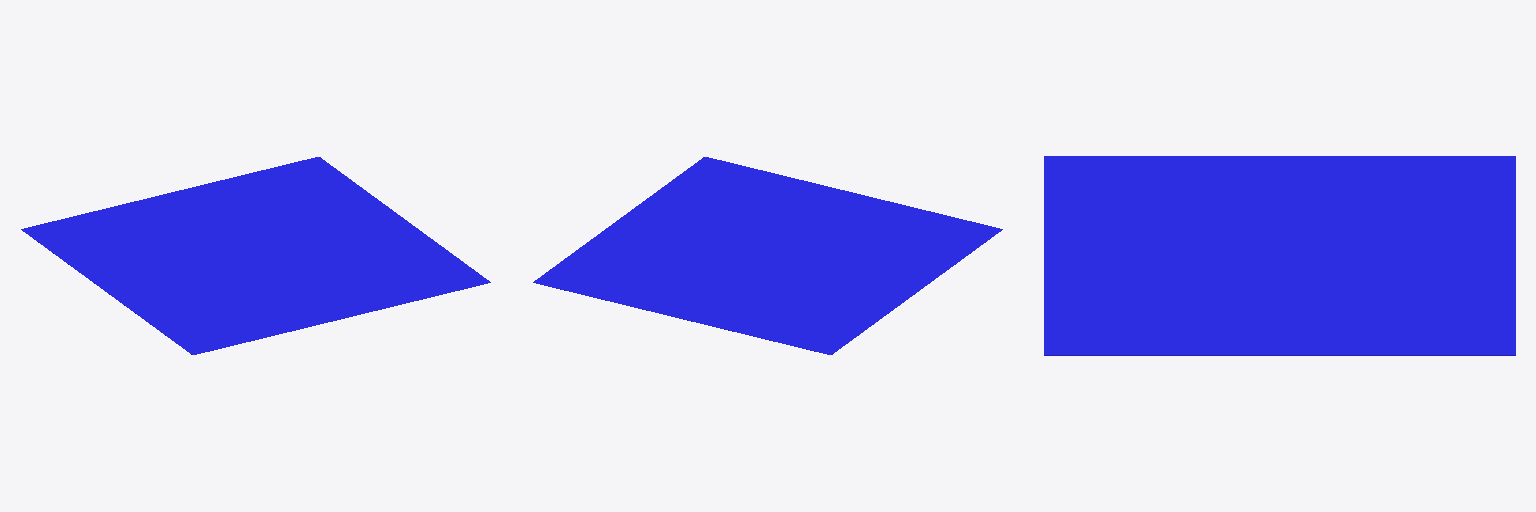
The robot description file, URDF, robot "block":
<robot name="block">
  <link name="block">

    <inertial>
      <origin xyz="0 0 0" />
      <mass value="0.1" />
      <inertia  ixx="0.00003375" ixy="0.0"  ixz="0.0"  iyy="0.00003375"  iyz="0.0"  izz="0.00003375" />
    </inertial>

    <visual>
      <origin xyz="0 0 0"/>
      <geometry>
        <box size="0.5 0.5 0.0001" />
      </geometry>
      <material name="blue">
        <color rgba="0.2 0.2 1.0 1.0"/>
      </material>
    </visual>

    <collision>
      <origin xyz="0 0 0"/>
      <geometry>
        <box size="0.5 0.5 0.0001" />
      </geometry>
    </collision>

  </link>


</robot>

--- Facts derived from the render (not from the file) ---
Views: 3 orthographic renders of the robot side by side, from view 1: azimuth 30°, elevation 25°; view 2: azimuth 150°, elevation 25°; view 3: azimuth 270°, elevation 25°.
Robot: block — 1 links, 0 joints (none); root link block; default pose: all joints at 0.
Visible links, largest first — view 1: block; view 2: block; view 3: block.
Link boxes in pixels (box(x1,y1,x2,y2)): block: box(21, 157, 490, 354); block: box(533, 157, 1002, 354); block: box(1044, 156, 1515, 355).
Size in the robot's own frame: 0.5 by 0.5 by 0.0001 metres.
Geometry: primitives only (box / cylinder / sphere), no mesh files.
